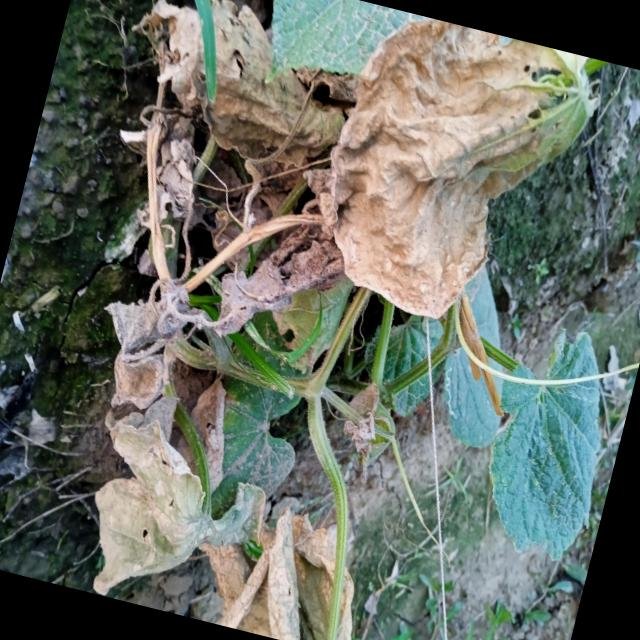cucumber_bacterial: (303, 10, 583, 348), (74, 422, 240, 620), (192, 24, 342, 203), (90, 265, 216, 416), (211, 260, 299, 351)
